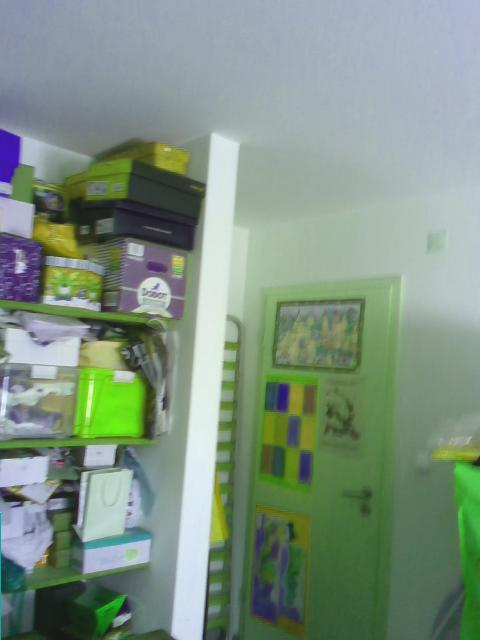closed_door: (236, 273, 400, 639)
